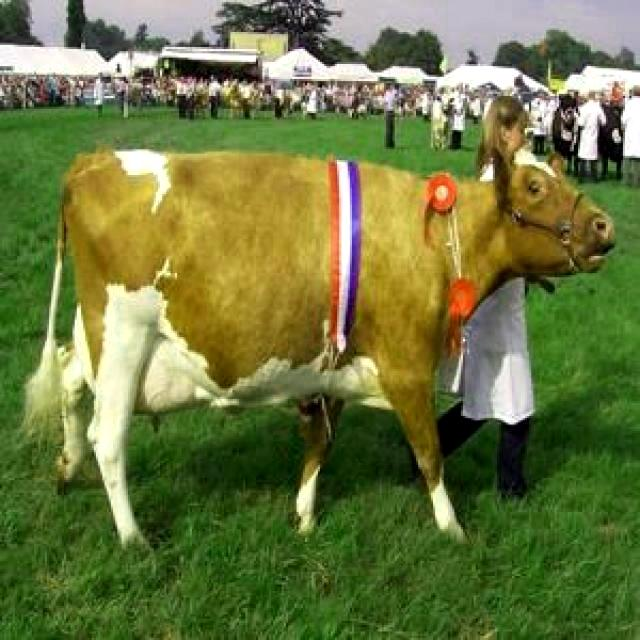COW: (26, 150, 614, 543)
